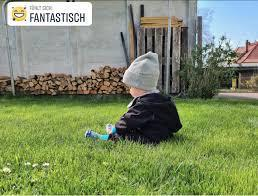child: (73, 50, 187, 148)
